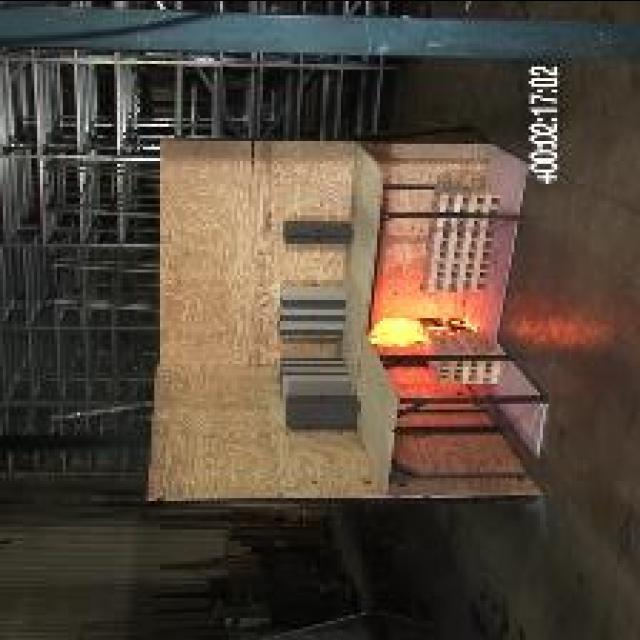Fire: (367, 314, 430, 346)
